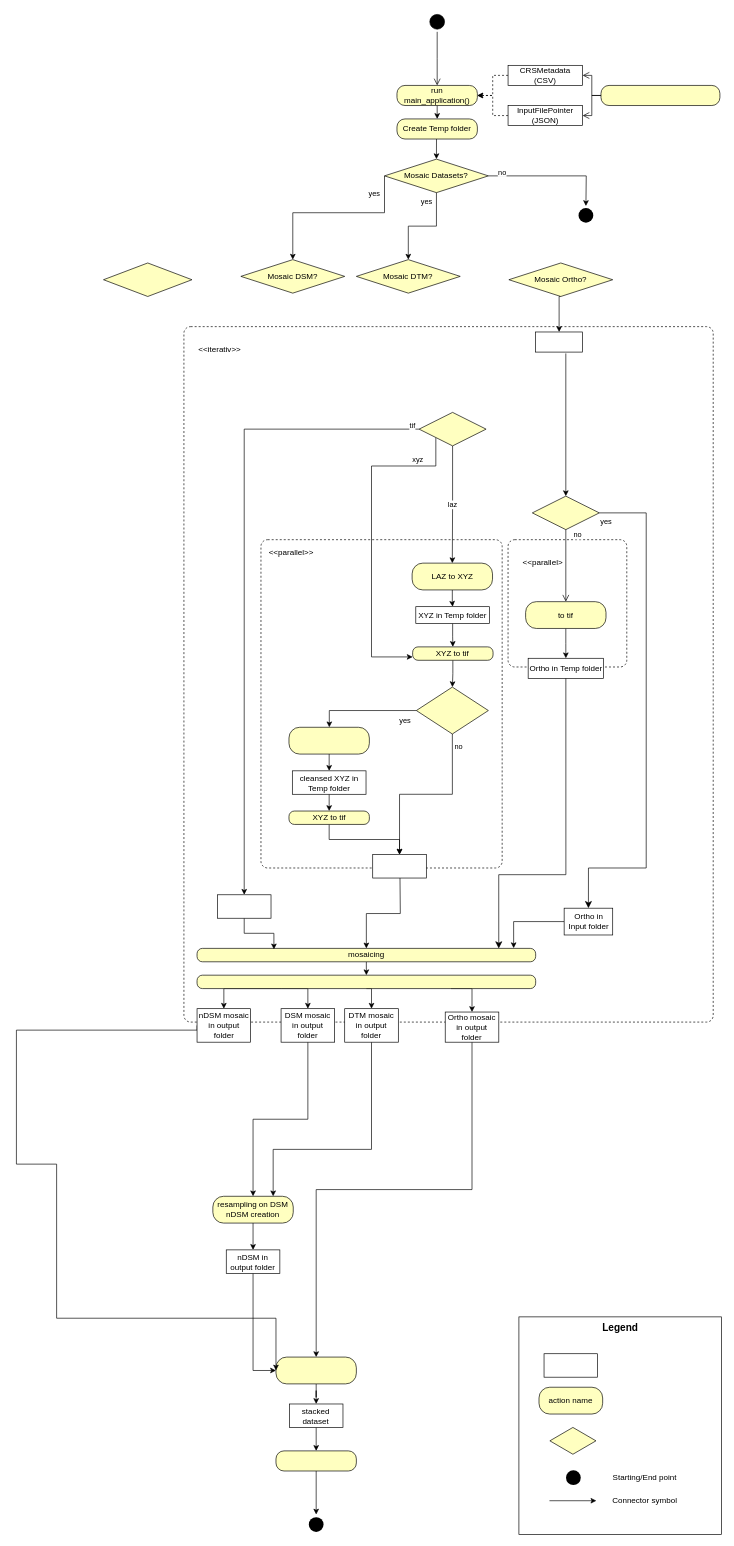
Image size: 734x1546. Some labels were removed from this diagram. The shapes that lost their labels are listed below. From the top down, each one's centre as x and y in pixels, then its label:
At point (660, 95): "manuel_input_file_ creation.py".
At point (147, 279): "Create nDSM?".
At point (559, 341): "Ortho".
At point (452, 429): "filetype".
At point (565, 512): "TIF available".
At point (452, 710): "exception because corrupted xyz data".
At point (328, 740): "data cleansing".
At point (399, 866): "tif tiles in Temp folder".
At point (244, 906): "tif tiles Input folder".
At point (366, 982): "delete tiles in Temp folder".
At point (315, 1370): "stacking, scaling, resampling on nDSM".
At point (570, 1365): "Object".
At point (315, 1460): "Delete Temp folder".
At point (572, 1440): "decision".
